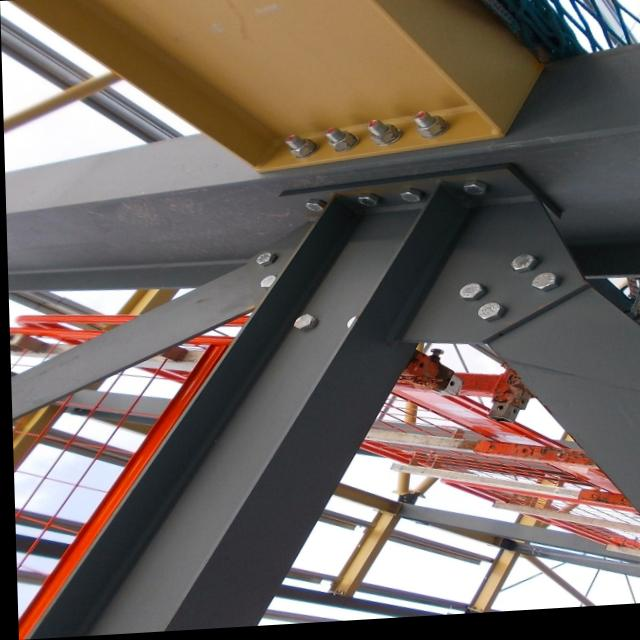Regular bolt: (413, 116, 446, 143), (284, 140, 317, 164), (368, 126, 399, 150), (327, 133, 356, 156), (478, 308, 506, 330), (531, 280, 560, 301), (457, 287, 483, 307), (291, 318, 318, 335), (461, 188, 489, 203), (510, 261, 534, 278), (356, 198, 380, 213), (400, 193, 420, 208), (304, 203, 324, 218), (260, 278, 276, 293), (255, 256, 273, 268)
